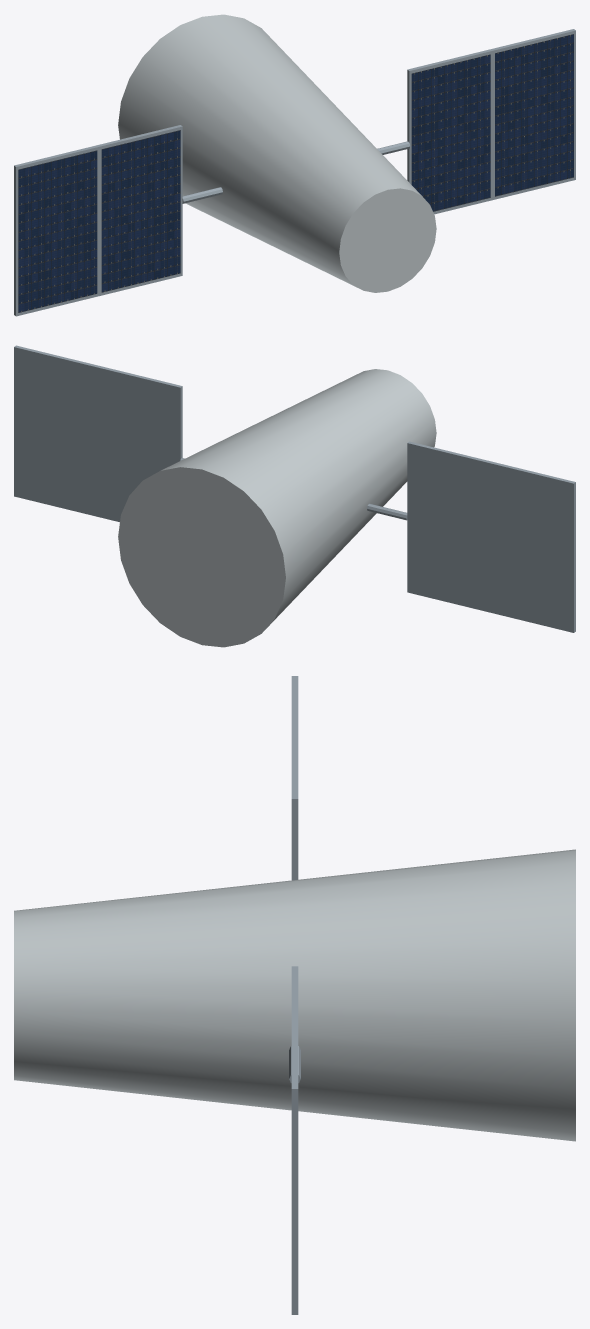
The model's file is ref-ofeq-26631.glb.
3 renders of one model, top to bottom at view 1: azimuth 30°, elevation 25°; view 2: azimuth 150°, elevation 25°; view 3: azimuth 270°, elevation 25°, orthographic. The views are drawn at different scales.
Parts seen in each view (by area): view 1: Spacecraft body, Photovoltaic laminates (×4), Array frame (×4); view 2: Spacecraft body, Array frame (×4); view 3: Spacecraft body, Array frame (×2).
Boxes of the visible parts, box(x1,y1,x2,y2) form: Spacecraft body: box(118, 14, 436, 292); Photovoltaic laminates (×4): box(18, 34, 573, 312); Array frame (×4): box(14, 29, 575, 316); Spacecraft body: box(118, 369, 436, 647); Array frame (×4): box(14, 345, 575, 632); Spacecraft body: box(14, 849, 575, 1141); Array frame (×2): box(291, 737, 298, 1314).
Bounding box in the file's own units: 4 × 1.2 × 2.3.
Materials: 3 (1 with a texture image).
